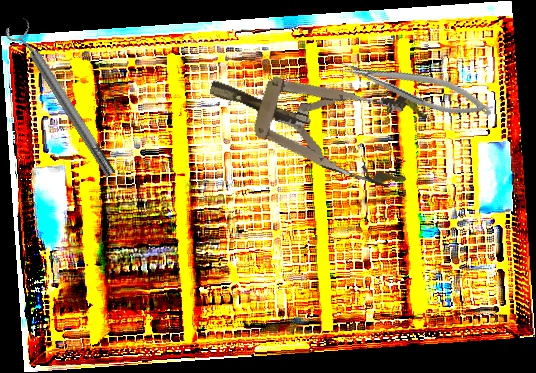Fixation Ring: (2, 15, 123, 184)
Needle Holder: (335, 46, 498, 129)
Speculum: (198, 41, 431, 193)
